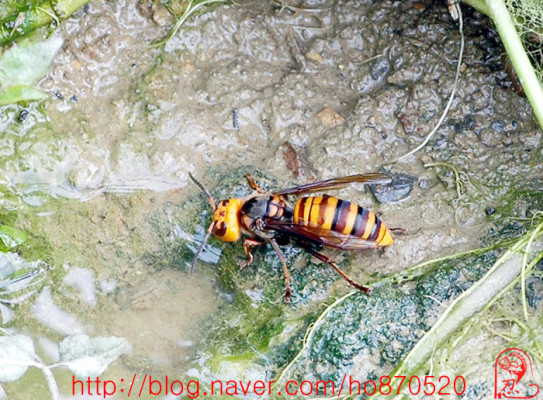asian_giant_hornet: (205, 186, 395, 261)
